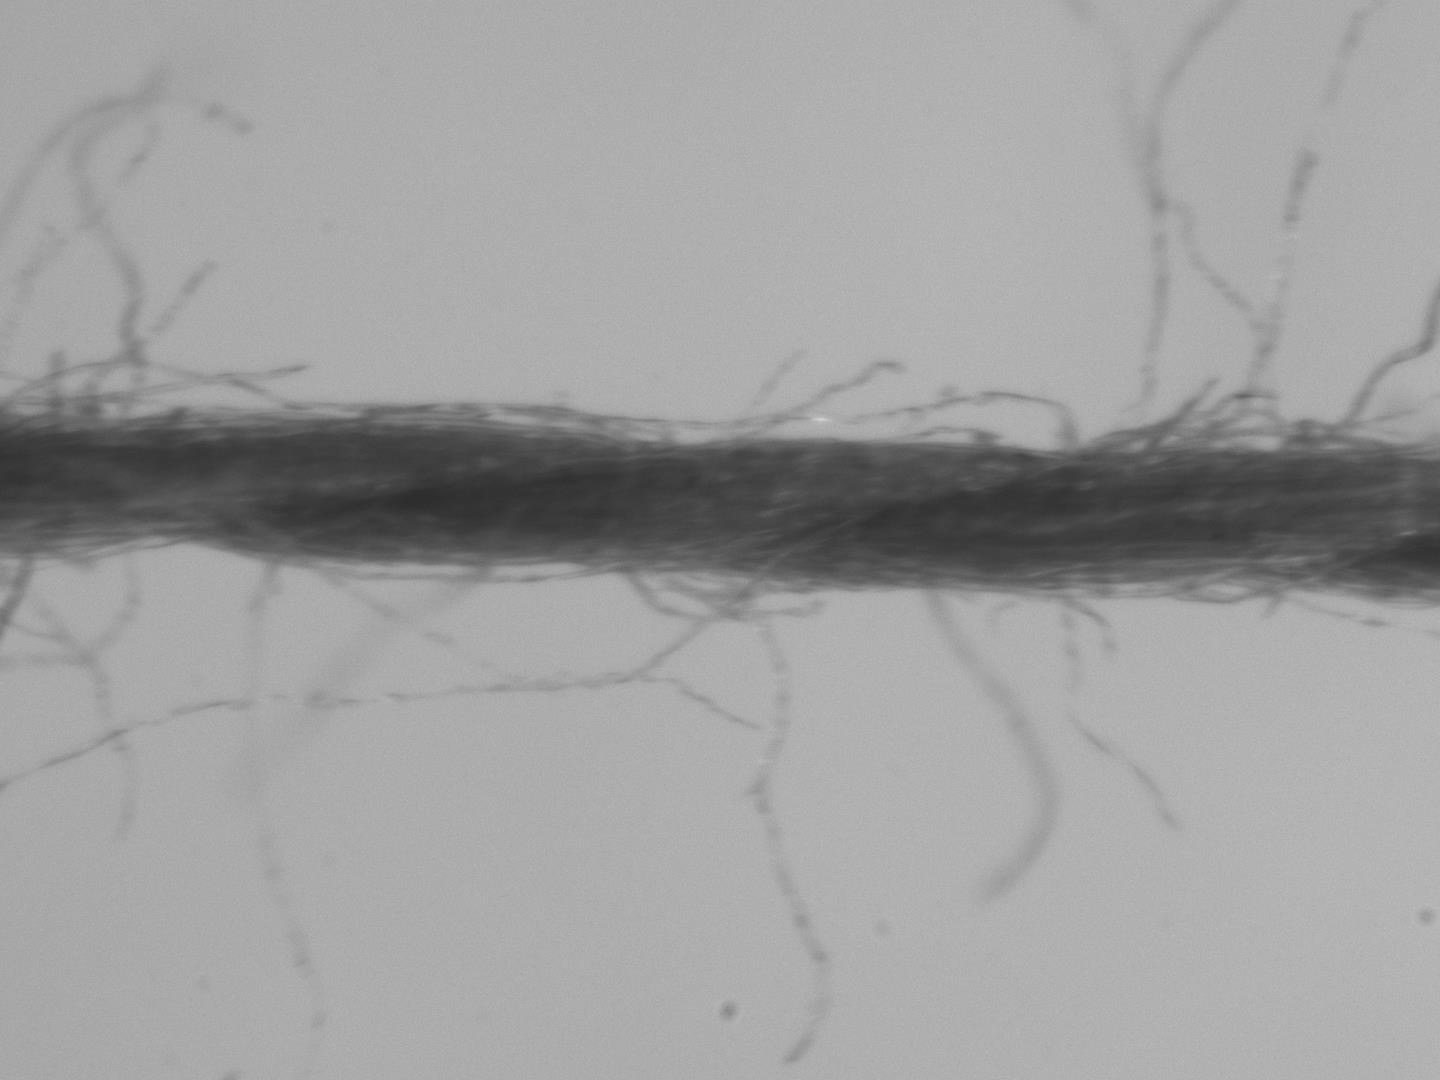loop_fiber: (457, 379, 1093, 458)
protruding_fiber: (719, 572, 838, 1071), (908, 588, 1065, 916), (238, 555, 334, 1049), (5, 564, 150, 853), (1051, 583, 1185, 833), (76, 250, 229, 421)
